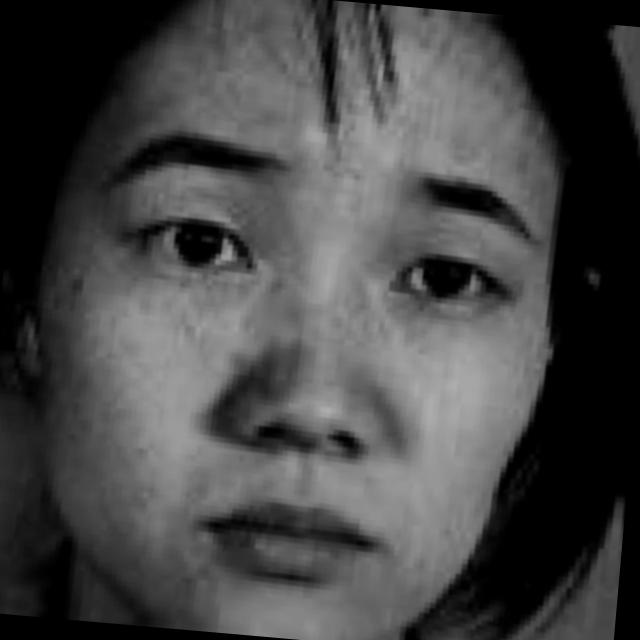fear: (21, 18, 613, 640)
